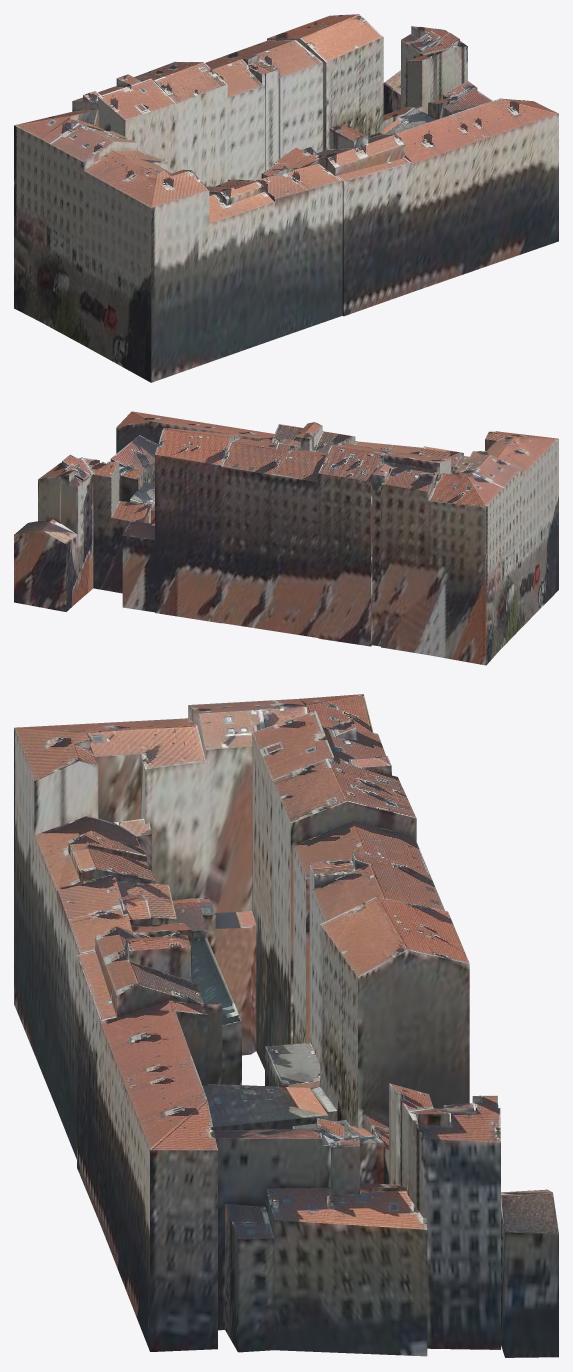
The model's file is LYON_1ER_00032.dae.
3 renders of one model, top to bottom at view 1: azimuth 30°, elevation 25°; view 2: azimuth 150°, elevation 25°; view 3: azimuth 270°, elevation 25°, orthographic. The views are drawn at different scales.
Bounding box in the file's own units: 115 × 70.93 × 46.81.
1 material, 1 textured.
